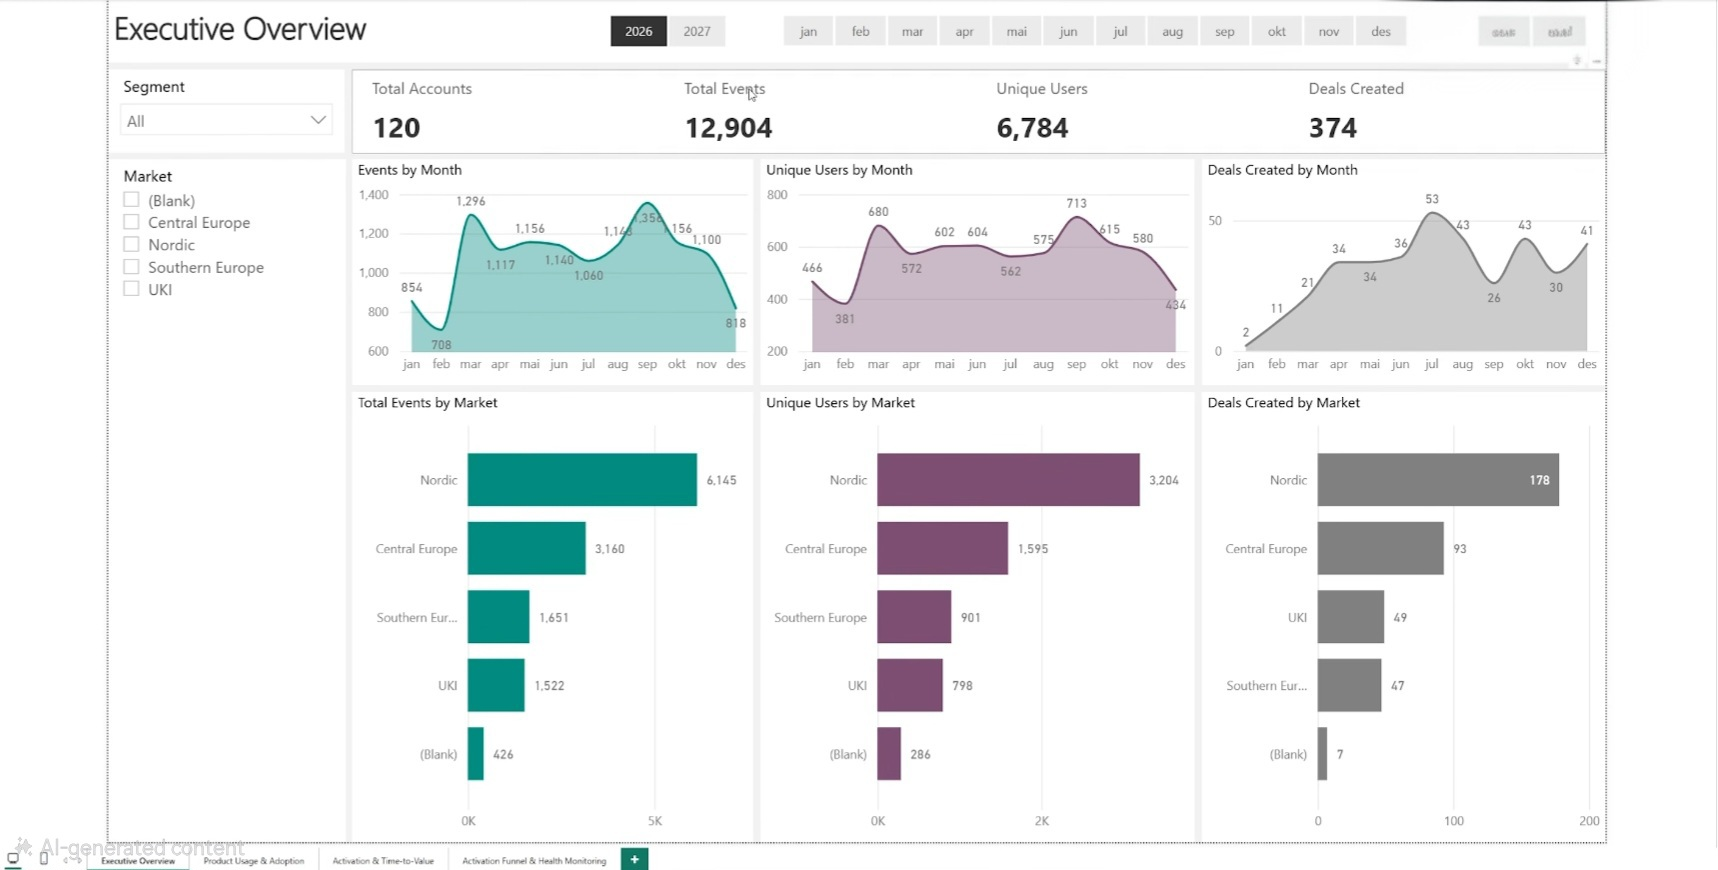

The page's visual inventory and layout, read from the dashboard file:
{"tool":"powerbi","page":{"name":"Page 1","canvas":[1280,720],"ordinal":0},"visuals":[{"type":"textbox","box":[5.1,0,1156.1,46.9],"z":0},{"type":"slicer","fields":{"Values":["dim_date.Year"]},"box":[251,4.1,180.6,42.9],"z":1000},{"type":"slicer","fields":{"Values":["dim_date.Month Short"]},"box":[439.2,0,645.9,43.2],"z":2000},{"type":"slicer","fields":{"Values":["dim_accounts.Segment"]},"box":[0,58.8,164.7,74.1],"z":3000},{"type":"cardVisual","fields":{"Data":["_Measures.Total Accounts","_Measures.Events","_Measures.Unique Users (Events)","_Measures.Deals Created"]},"box":[198.6,58.1,954.1,75.7],"z":4000},{"type":"slicer","fields":{"Values":["dim_geography.Market"]},"box":[0,157.6,165.9,168.2],"z":5000},{"type":"lineChart","fields":{"Y":["_Measures.Events"],"Category":["dim_date.Month Short"]},"box":[182.5,166.2,348.8,150],"z":6000},{"type":"lineChart","fields":{"Y":["_Measures.Unique Users (Events)"],"Category":["dim_date.Month Short"]},"box":[455,166.2,423.8,160],"z":7000},{"type":"lineChart","fields":{"Category":["dim_date.Month Short"],"Y":["_Measures.Deals Created"]},"box":[728.7,316.1,387.3,194.2],"z":8000}]}

Visuals, with their boxes on the page's 1280x720 design canvas (x1, y1, x2, y2). These are canvas units, not pixel positions in the 1718x870 screenshot, which may show the page scaled, cropped or inside an application window:
textbox: [5, 0, 1161, 47]
slicer - dim_date.Year: [251, 4, 432, 47]
slicer - dim_date.Month Short: [439, 0, 1085, 43]
slicer - dim_accounts.Segment: [0, 59, 165, 133]
cardVisual - _Measures.Total Accounts x _Measures.Events: [199, 58, 1153, 134]
slicer - dim_geography.Market: [0, 158, 166, 326]
lineChart - _Measures.Events x dim_date.Month Short: [182, 166, 531, 316]
lineChart - _Measures.Unique Users (Events) x dim_date.Month Short: [455, 166, 879, 326]
lineChart - dim_date.Month Short x _Measures.Deals Created: [729, 316, 1116, 510]
